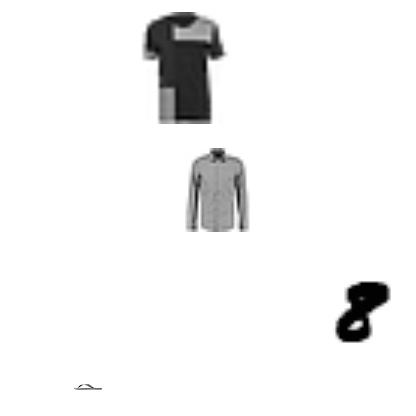8: (318, 267, 402, 351)
Sandal: (74, 373, 102, 401)
Shirt: (174, 148, 258, 232)
T-shirt/top: (127, 12, 239, 124)
